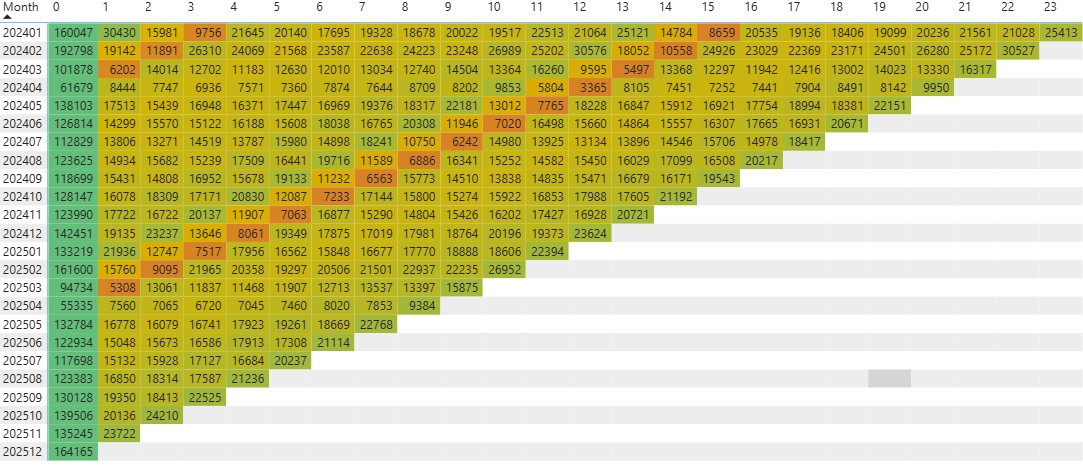

The page's visual inventory and layout, read from the dashboard file:
{"tool":"powerbi","page":{"name":"Cohort","canvas":[1280,720],"ordinal":0},"visuals":[{"type":"pivotTable","fields":{"Rows":["_with_base_as_select_s_customerkey_d_yearmonthnumber_d_yearmonth_202606021608.Month"],"Values":["Sum(_with_base_as_select_s_customerkey_d_yearmonthnumber_d_yearmonth_202606021608.customers)"],"Columns":["_with_base_as_select_s_customerkey_d_yearmonthnumber_d_yearmonth_202606021608.period_offset"]},"box":[9.6,0,1270.7,554.4],"z":0}]}

Visuals, with their boxes on the page's 1280x720 design canvas (x1, y1, x2, y2). These are canvas units, not pixel positions in the 1083x467 screenshot, which may show the page scaled, cropped or inside an application window:
pivotTable - _with_base_as_select_s_customerkey_d_yearmonthnumber_d_yearmonth_202606021608.Month x Sum(_with_base_as_select_s_customerkey_d_yearmonthnumber_d_yearmonth_202606021608.customers): 10, 0, 1280, 554
